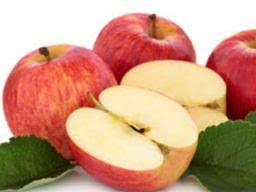apple: (6, 47, 115, 165), (96, 10, 200, 83), (207, 26, 256, 109)
damaged_apple: (63, 84, 198, 188), (117, 62, 231, 132)
